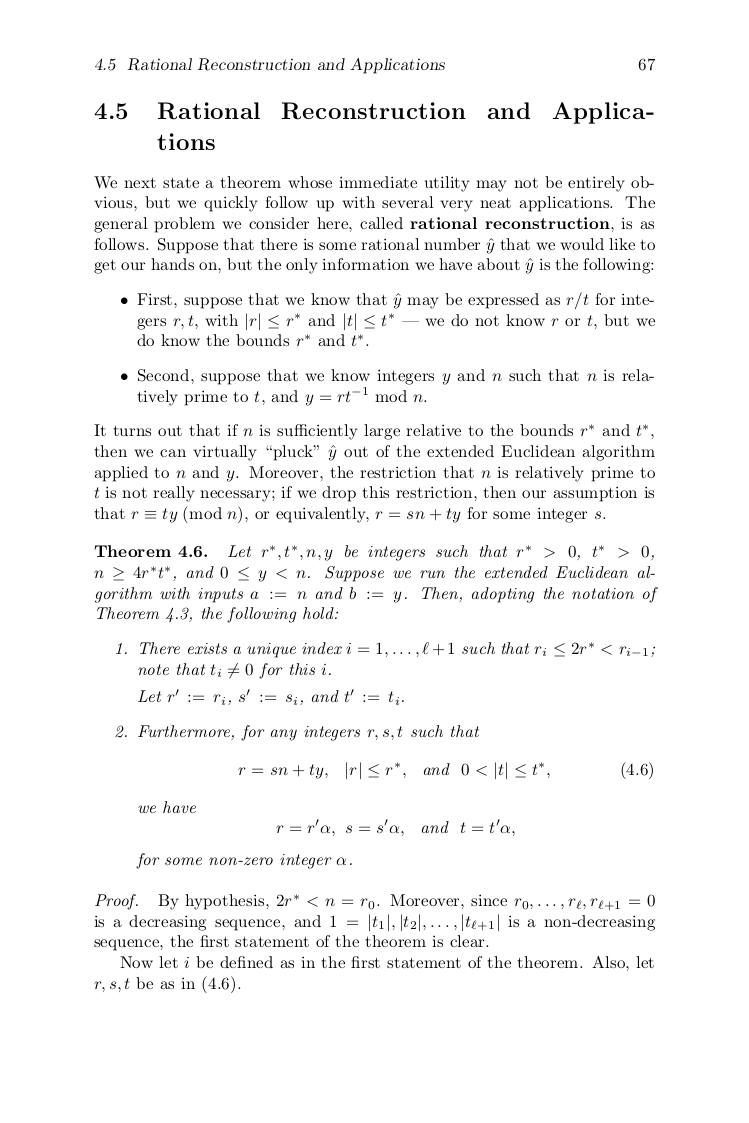formula: (238, 761, 652, 780), (276, 818, 514, 836)
